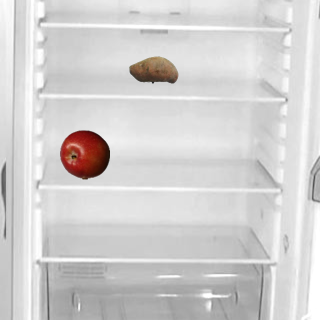Apple Braeburn: (59, 129, 109, 179)
Potato Sweet: (128, 44, 178, 94)
